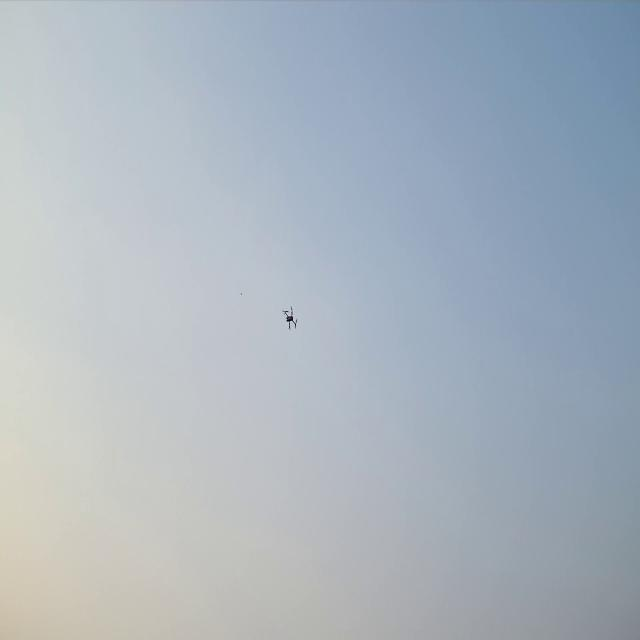UAV: (281, 304, 300, 332)
